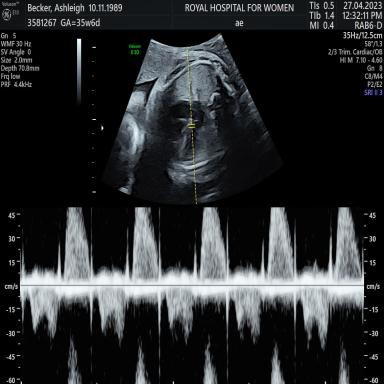Ultrasound-Waves: (27, 206, 360, 384)
